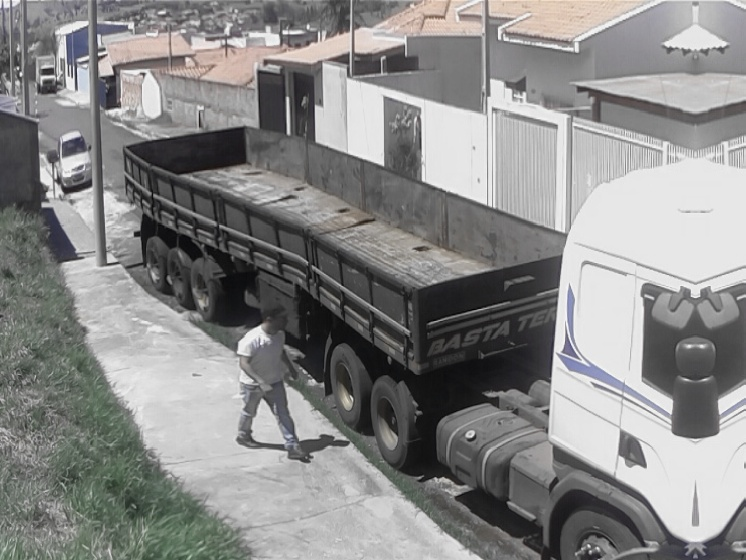person: (234, 302, 314, 463)
